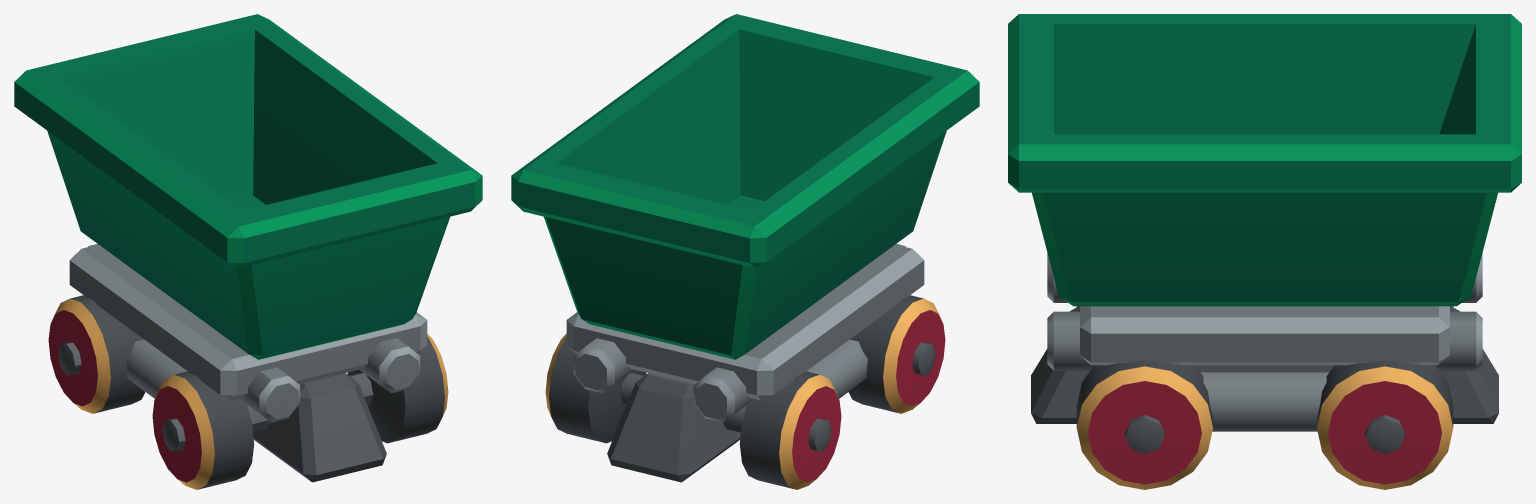
File: train_tender_empty.glb
The picture shows the model from 3 angles, left to right: view 1: azimuth 30°, elevation 25°; view 2: azimuth 150°, elevation 25°; view 3: azimuth 270°, elevation 25°; orthographic projection. The views are drawn at different scales.
Visible parts, largest first — view 1: train_tender_empty; view 2: train_tender_empty; view 3: train_tender_empty.
Boxes of the visible parts, bbox=[...] form: train_tender_empty: bbox=[14, 14, 482, 489]; train_tender_empty: bbox=[511, 14, 979, 489]; train_tender_empty: bbox=[1008, 14, 1521, 489].
Bounding box in the file's own units: 0.4459 × 0.4768 × 0.6421.
Materials: 1 (1 with a texture image).
